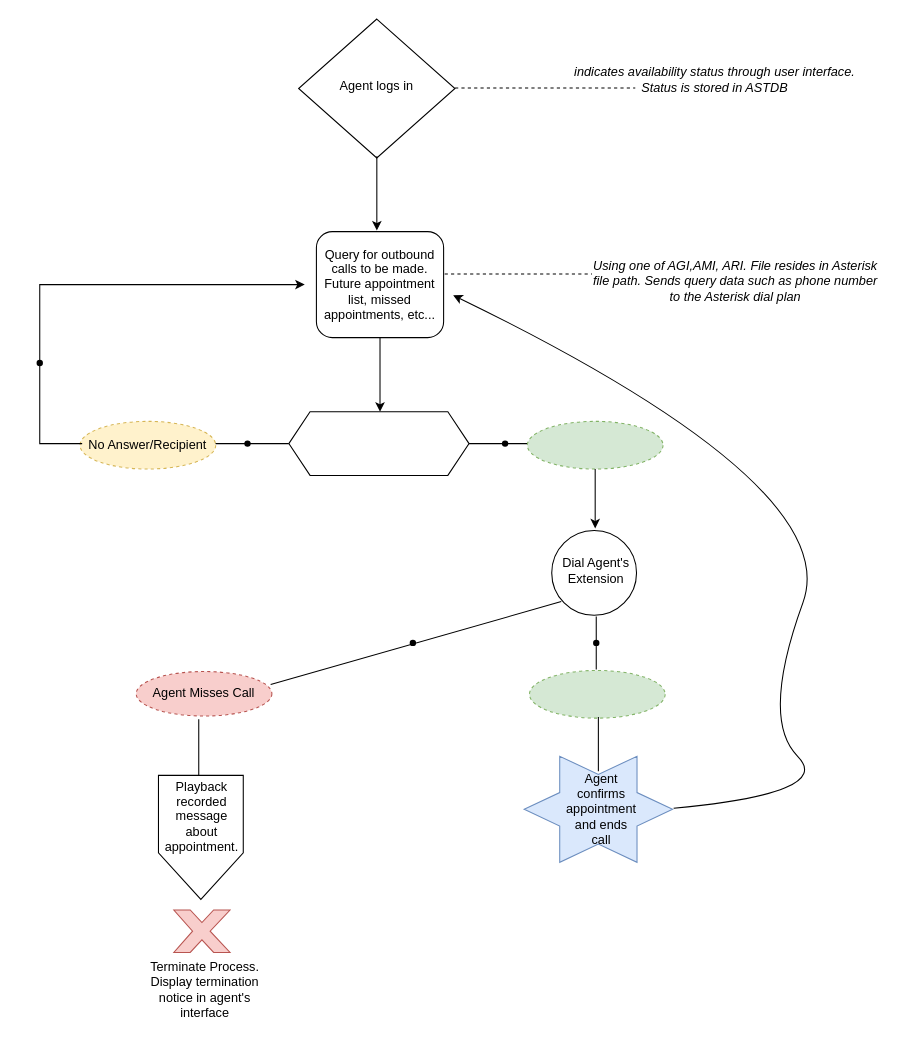
Some shapes in this 902 by 1038 pixel diagram are drawn without their labels. The shapes that lost their labels are listed below. From the top down, each one's centre as x and y in pixels, then its label:
(378,443): If extension is not on a call, then "auto-dial queried number
(594,444): Recipient Answers
(596,693): Agent Answers
